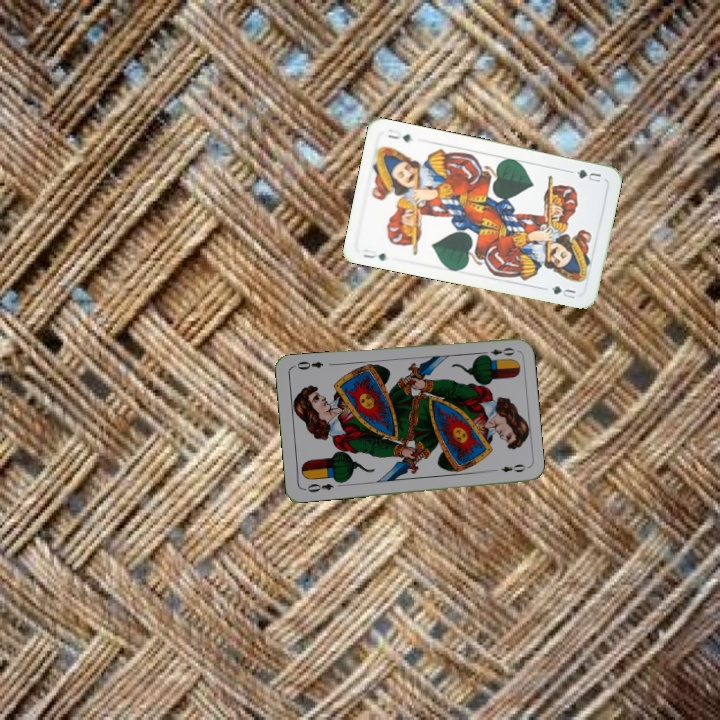EO: (478, 344, 517, 360), (300, 480, 336, 495)
GU: (572, 165, 604, 185), (359, 245, 389, 264)
